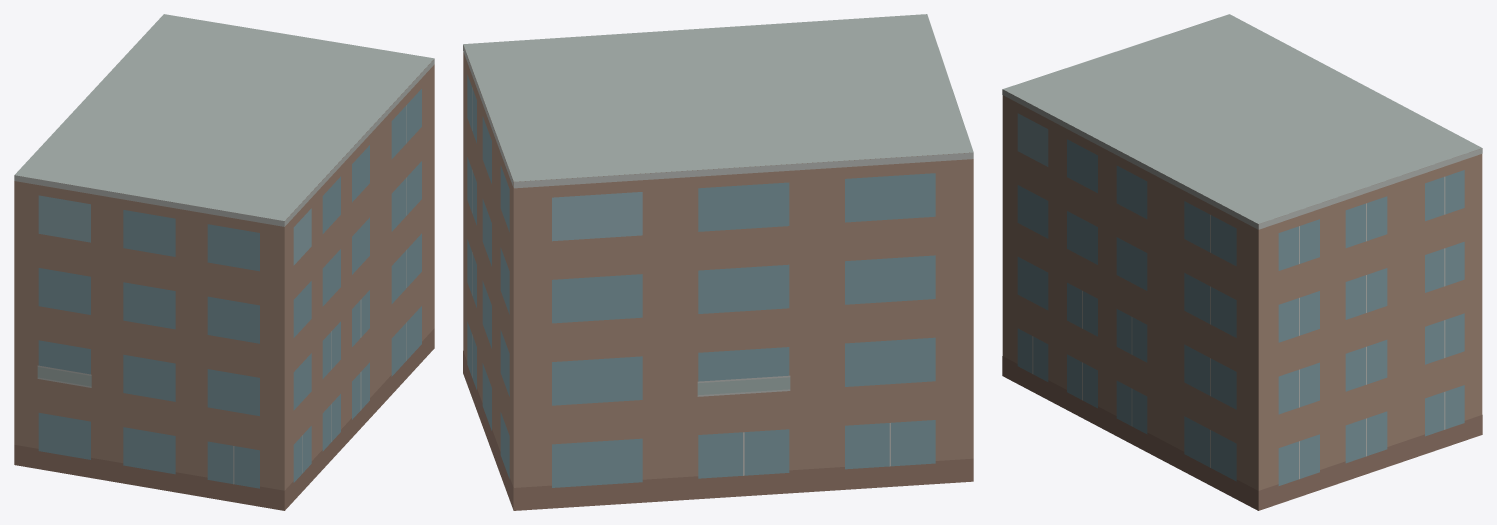
File: survey-upis-32779646.glb
The picture shows the model from 3 angles, left to right: view 1: azimuth 30°, elevation 25°; view 2: azimuth 150°, elevation 25°; view 3: azimuth 270°, elevation 25°; orthographic projection. The views are drawn at different scales.
Parts seen in each view (by area): view 1: survey-upis-32779646.tmp; view 2: survey-upis-32779646.tmp; view 3: survey-upis-32779646.tmp.
Boxes of the visible parts, box(x1,y1,x2,y2) form: survey-upis-32779646.tmp: box(14, 14, 434, 510); survey-upis-32779646.tmp: box(463, 14, 973, 510); survey-upis-32779646.tmp: box(1002, 14, 1482, 510).
Bounding box in the file's own units: 19.17 × 12.2 × 18.51.
